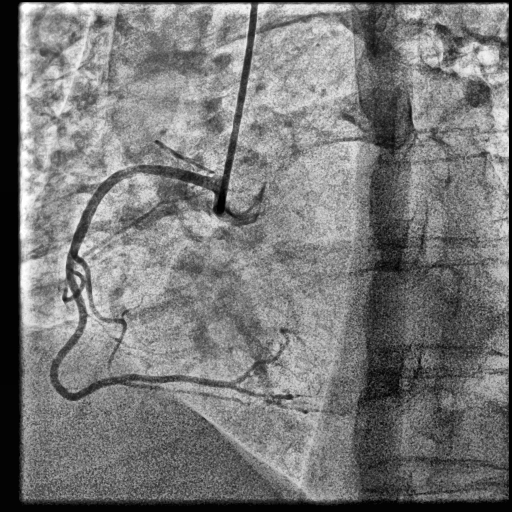pborca: (231, 341, 289, 385)
pda: (231, 386, 293, 400)
rca: (51, 165, 230, 401)
